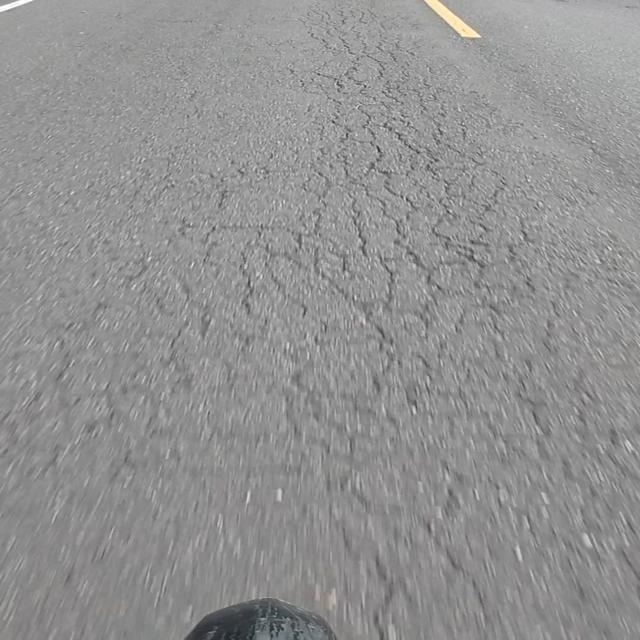Retak Buaya: (258, 0, 564, 422)
